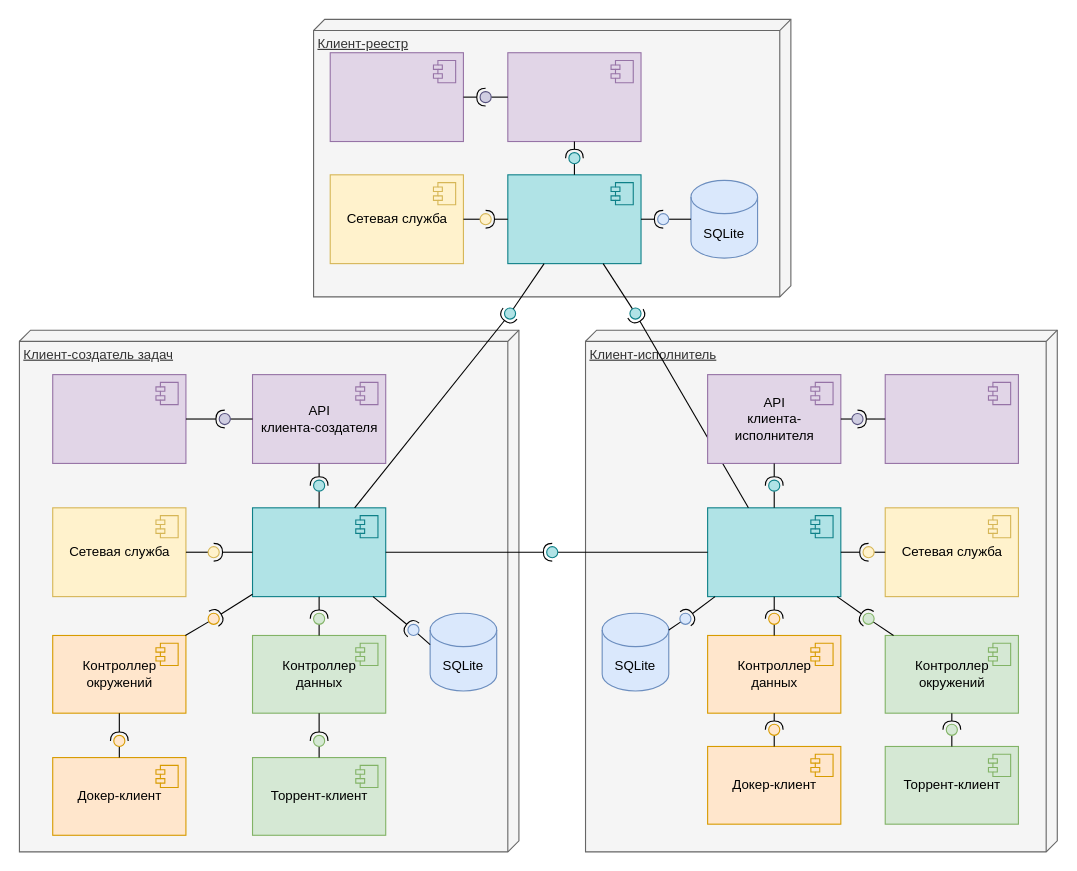
This 1077x871 diagram has some shape labels left out. Here are the shapes that lost their labels. From the top down, the centre of each, then its label:
the point at 396,97: GUI клиента-реестра
the point at 574,97: API клиента-реестра
the point at 574,219: HTTP-сервер клиента-реестра
the point at 119,418: GUI клиента-создателя
the point at 951,418: GUI клиента- исполнителя
the point at 318,552: HTTP-сервер клиента-создателя
the point at 774,552: HTTP-сервер клиента- исполнителя
